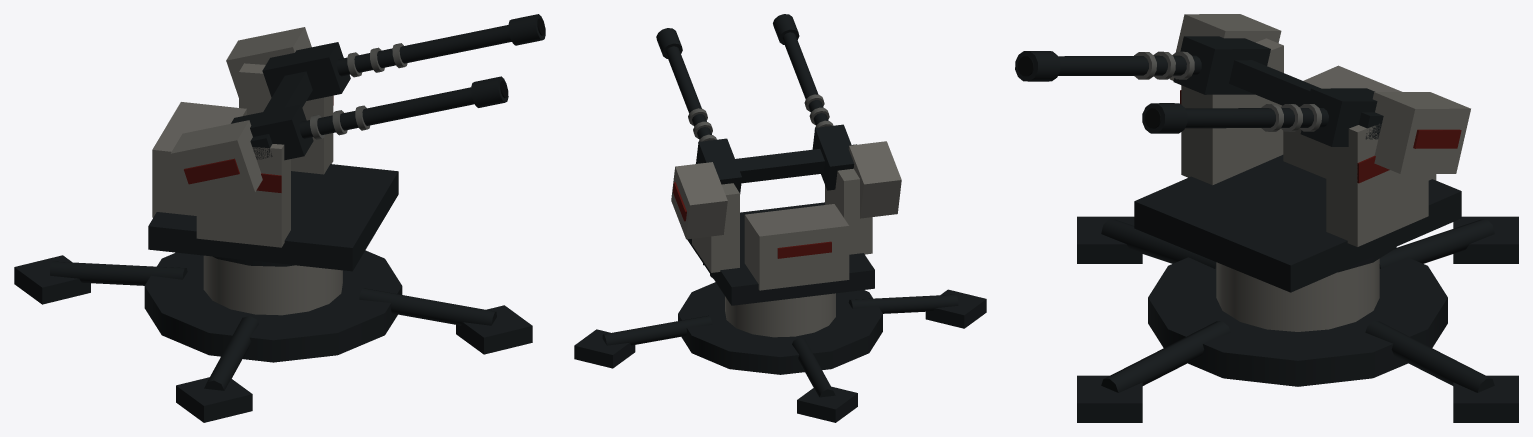
3 renders of one model, left to right at view 1: azimuth 30°, elevation 25°; view 2: azimuth 150°, elevation 25°; view 3: azimuth 270°, elevation 25°, orthographic. The views are drawn at different scales.
Parts seen in each view (by area): view 1: aa-gun-auto-fleet-machine, turret-fleet-machine, turret-fleet-armor, elevation-fleet-armor, aa-barrel-right-fleet-machine, aa-gun-auto-fleet-armor, aa-barrel-left-fleet-machine, elevation-fleet-machine, elevation-fleet-red, aa-barrel-right-fleet-edge, aa-barrel-left-fleet-edge; view 2: aa-gun-auto-fleet-machine, turret-fleet-armor, elevation-fleet-armor, turret-fleet-machine, aa-gun-auto-fleet-armor, aa-barrel-left-fleet-machine, aa-barrel-right-fleet-machine, elevation-fleet-machine, turret-fleet-red, aa-barrel-left-fleet-edge, aa-barrel-right-fleet-edge; view 3: aa-gun-auto-fleet-machine, turret-fleet-machine, turret-fleet-armor, elevation-fleet-armor, aa-gun-auto-fleet-armor, aa-barrel-left-fleet-machine, aa-barrel-right-fleet-machine, elevation-fleet-machine, aa-barrel-left-fleet-edge, aa-barrel-right-fleet-edge, elevation-fleet-red, turret-fleet-red.
Part boxes in pixels (left/top/right/bottom): aa-gun-auto-fleet-machine: left=14, top=250, right=532, bottom=422; turret-fleet-machine: left=148, top=164, right=398, bottom=271; turret-fleet-armor: left=152, top=63, right=333, bottom=247; elevation-fleet-armor: left=170, top=27, right=311, bottom=205; aa-barrel-right-fleet-machine: left=262, top=14, right=545, bottom=100; aa-gun-auto-fleet-armor: left=203, top=255, right=342, bottom=315; aa-barrel-left-fleet-machine: left=231, top=76, right=508, bottom=160; elevation-fleet-machine: left=250, top=71, right=312, bottom=159; elevation-fleet-red: left=184, top=158, right=239, bottom=184; aa-barrel-right-fleet-edge: left=347, top=43, right=407, bottom=77; aa-barrel-left-fleet-edge: left=310, top=105, right=370, bottom=139; aa-gun-auto-fleet-machine: left=574, top=263, right=986, bottom=422; turret-fleet-armor: left=692, top=168, right=872, bottom=290; elevation-fleet-armor: left=671, top=141, right=901, bottom=239; turret-fleet-machine: left=687, top=202, right=874, bottom=305; aa-gun-auto-fleet-armor: left=725, top=293, right=835, bottom=337; aa-barrel-left-fleet-machine: left=773, top=14, right=854, bottom=190; aa-barrel-right-fleet-machine: left=656, top=28, right=741, bottom=193; elevation-fleet-machine: left=696, top=144, right=856, bottom=183; turret-fleet-red: left=777, top=241, right=831, bottom=258; aa-barrel-left-fleet-edge: left=804, top=94, right=833, bottom=129; aa-barrel-right-fleet-edge: left=688, top=108, right=716, bottom=141; aa-gun-auto-fleet-machine: left=1077, top=216, right=1518, bottom=422; turret-fleet-machine: left=1134, top=155, right=1461, bottom=292; turret-fleet-armor: left=1181, top=38, right=1436, bottom=246; elevation-fleet-armor: left=1169, top=14, right=1470, bottom=173; aa-gun-auto-fleet-armor: left=1216, top=258, right=1379, bottom=331; aa-barrel-left-fleet-machine: left=1015, top=36, right=1270, bottom=94; aa-barrel-right-fleet-machine: left=1142, top=88, right=1377, bottom=146; elevation-fleet-machine: left=1229, top=60, right=1383, bottom=139; aa-barrel-left-fleet-edge: left=1134, top=51, right=1194, bottom=79; aa-barrel-right-fleet-edge: left=1261, top=104, right=1321, bottom=131; elevation-fleet-red: left=1413, top=129, right=1461, bottom=148; turret-fleet-red: left=1180, top=90, right=1389, bottom=183.
Bounding box in the file's own units: 19.28 × 14.29 × 19.13.
